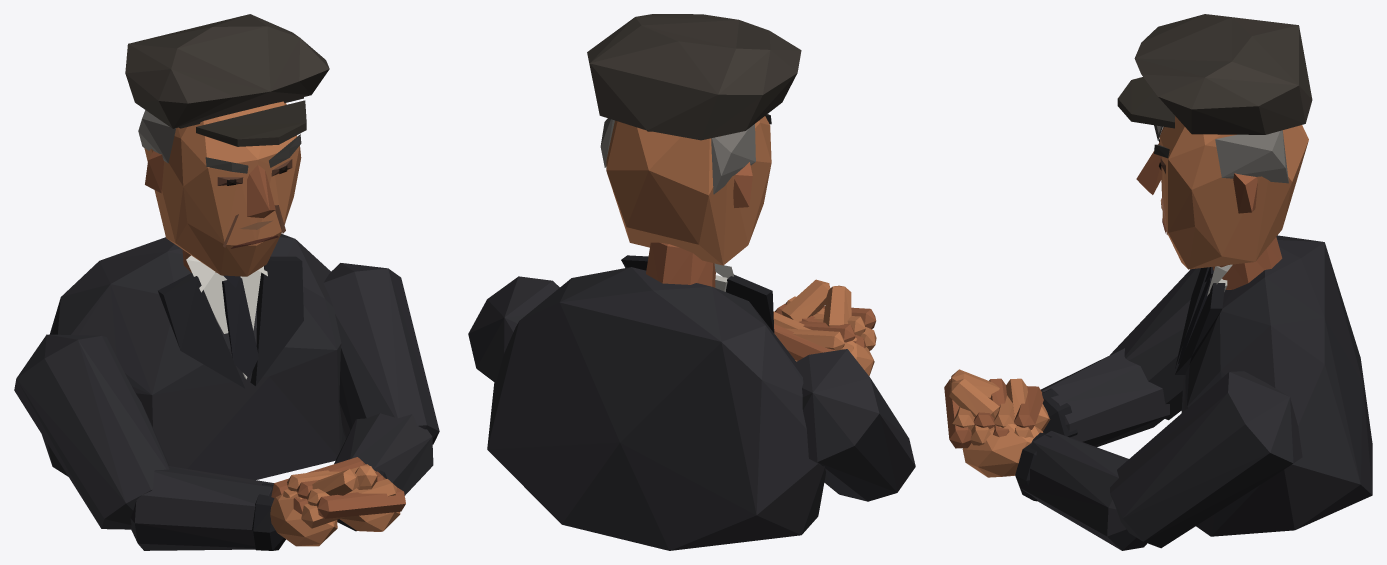
The model's file is pinu.glb.
3 views of the same model, side by side, from view 1: azimuth 30°, elevation 25°; view 2: azimuth 150°, elevation 25°; view 3: azimuth 270°, elevation 25° (orthographic). The views are drawn at different scales.
Parts seen in each view (by area): view 1: Pinu; view 2: Pinu; view 3: Pinu.
Boxes of the visible parts, bbox=[...] form: Pinu: bbox=[14, 14, 439, 550]; Pinu: bbox=[468, 14, 915, 550]; Pinu: bbox=[944, 14, 1372, 550].
Bounding box in the file's own units: 1.5 × 1.67 × 1.43.
